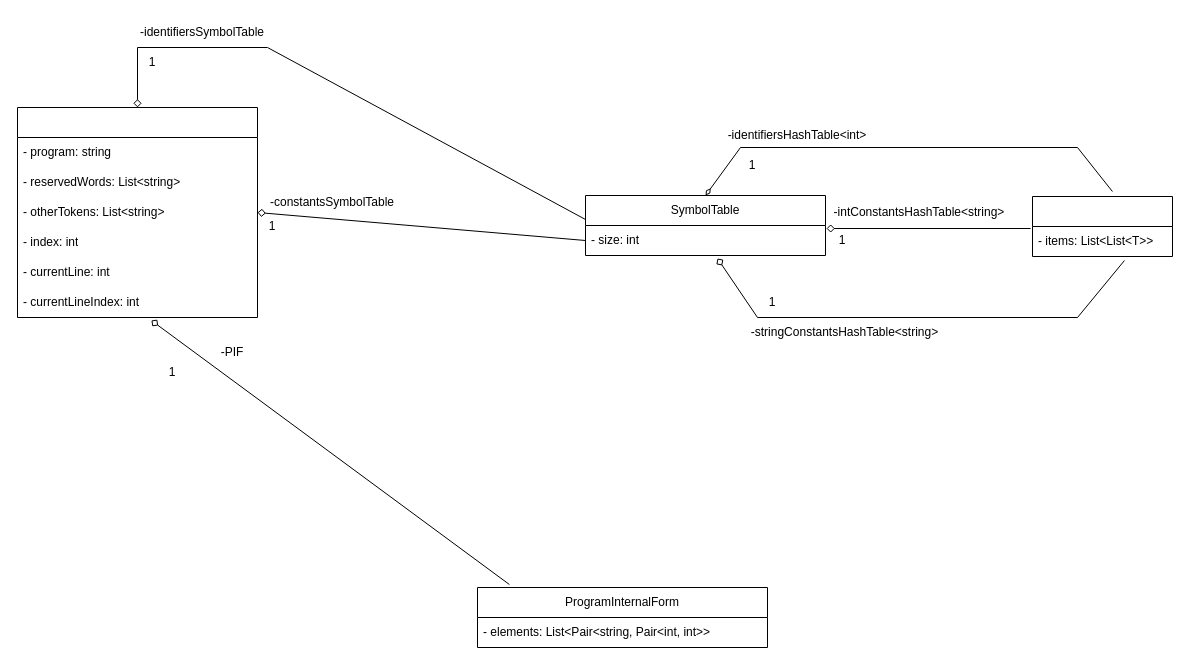
Image size: 1190x665. Some labels were removed from this diagram. The box of each missing label's shape, as (x1, y1, x2, y2) in pixels:
HashTable<T>: (1032, 196, 1172, 256)
Scanner: (16, 106, 258, 318)
